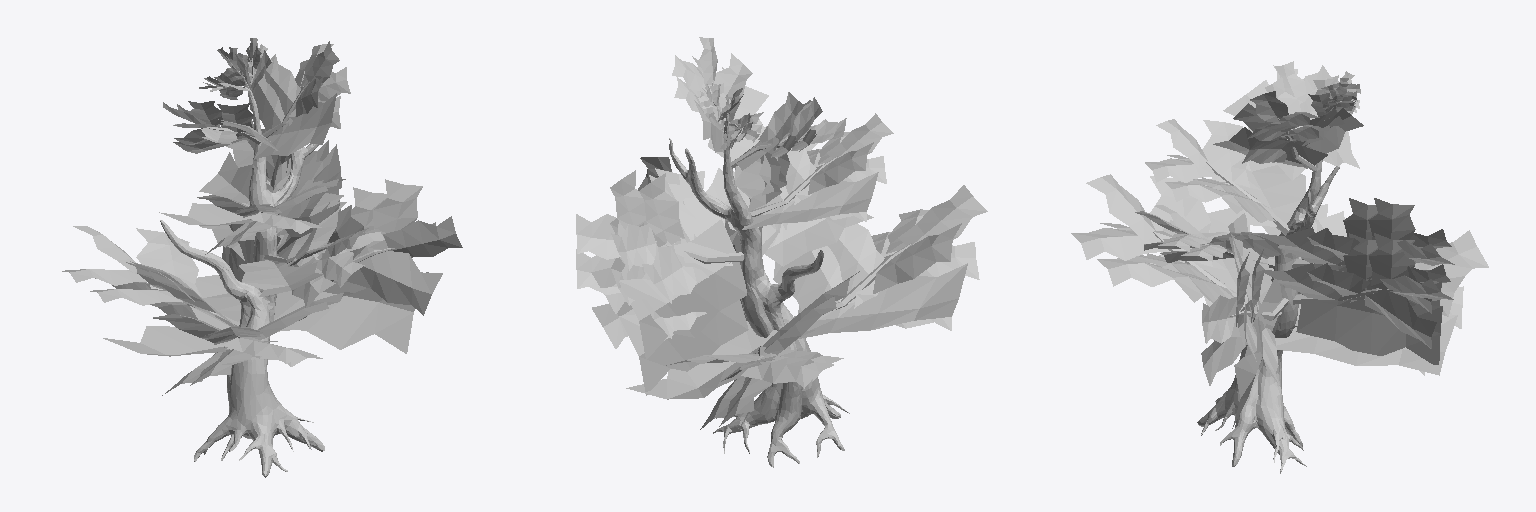
The model's file is tree.obj.
The picture shows the model from 3 angles: view 1: azimuth 30°, elevation 25°; view 2: azimuth 150°, elevation 25°; view 3: azimuth 270°, elevation 25°; orthographic projection.
Parts seen in each view (by area): view 1: Branch.011, Cube, Branch.009, Branch.008, Branch, Branch.002, Branch.010, Branch.003, Branch.004, Branch.001, Branch.005, Branch.006 (+1 smaller); view 2: Branch.010, Branch, Cube, Branch.009, Branch.003, Branch.001, Branch.004, Branch.008, Branch.002, Branch.007, Branch.011, Branch.006; view 3: Branch.001, Branch, Branch.003, Branch.011, Cube, Branch.010, Branch.008, Branch.009, Branch.002, Branch.004, Branch.006, Branch.005.
Boxes of the visible parts, box(x1,y1,x2,y2) form: Branch.011: box(274, 179, 462, 353); Cube: box(160, 84, 324, 477); Branch.009: box(62, 226, 294, 331); Branch.008: box(244, 41, 350, 159); Branch: box(103, 292, 352, 395); Branch.002: box(239, 193, 384, 307); Branch.010: box(199, 120, 341, 271); Branch.003: box(159, 179, 345, 254); Branch.004: box(163, 101, 279, 153); Branch.001: box(200, 155, 340, 298); Branch.005: box(217, 47, 251, 90); Branch.006: box(246, 38, 272, 91); Branch.010: box(576, 168, 746, 359); Branch: box(773, 185, 987, 338); Cube: box(669, 117, 849, 467); Branch.009: box(626, 271, 859, 429); Branch.003: box(734, 113, 893, 229); Branch.001: box(576, 218, 748, 395); Branch.004: box(731, 92, 846, 212); Branch.008: box(672, 37, 768, 166); Branch.002: box(706, 143, 873, 266); Branch.007: box(720, 112, 763, 149); Branch.011: box(638, 157, 762, 320); Branch.006: box(698, 83, 730, 130); Branch.001: box(1264, 233, 1453, 364); Branch: box(1071, 174, 1253, 319); Branch.003: box(1145, 119, 1317, 235); Branch.011: box(1201, 213, 1288, 428); Cube: box(1197, 160, 1339, 473); Branch.010: box(1258, 198, 1454, 313); Branch.008: box(1213, 91, 1363, 171); Branch.009: box(1262, 204, 1488, 375); Branch.002: box(1135, 205, 1281, 268); Branch.004: box(1223, 61, 1359, 180); Branch.006: box(1308, 83, 1356, 116); Branch.005: box(1313, 71, 1360, 114).
Bounding box in the file's own units: 18.31 × 20.63 × 19.59.